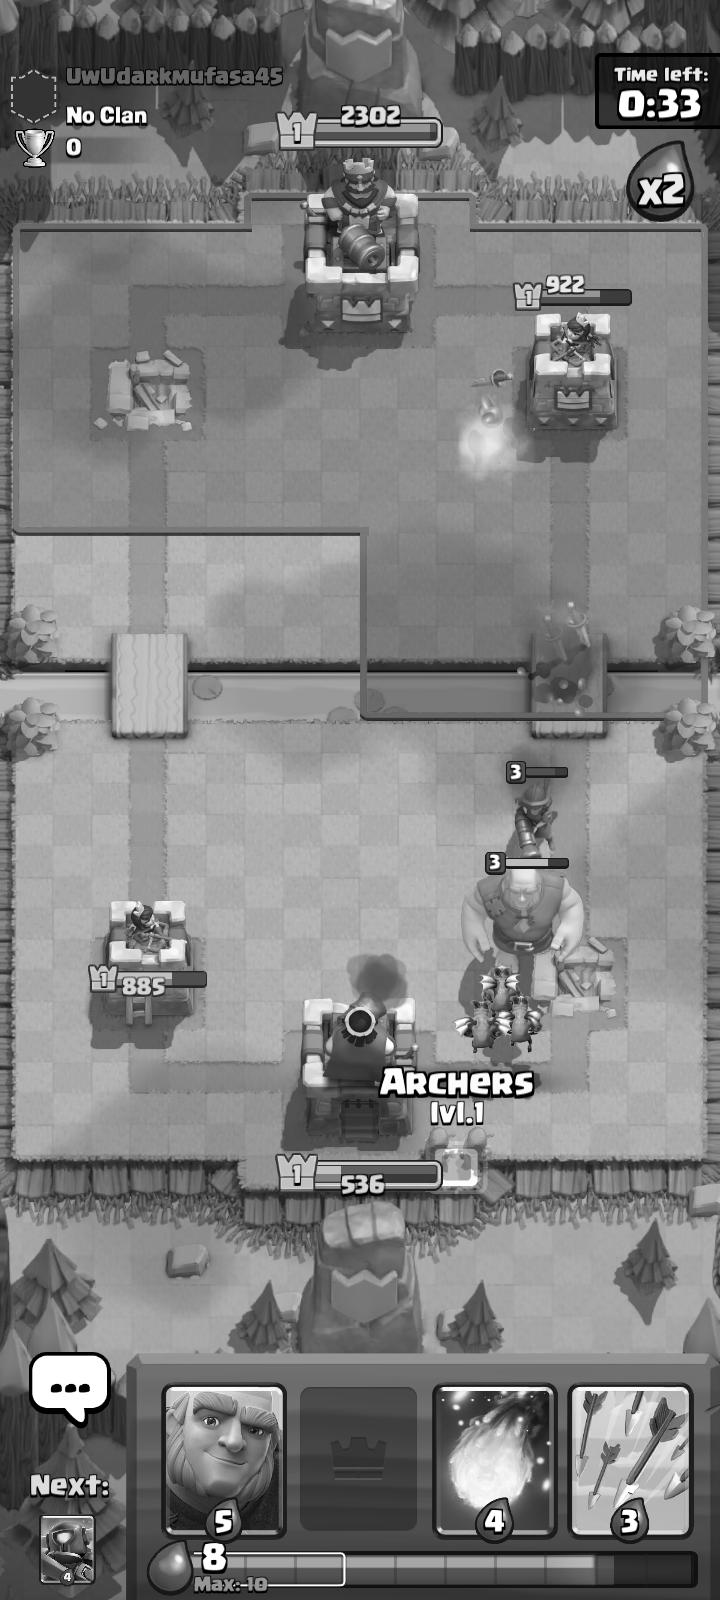gargouille: (463, 1003, 503, 1055), (482, 963, 522, 1014), (505, 997, 542, 1049)
geant: (460, 851, 587, 973)
